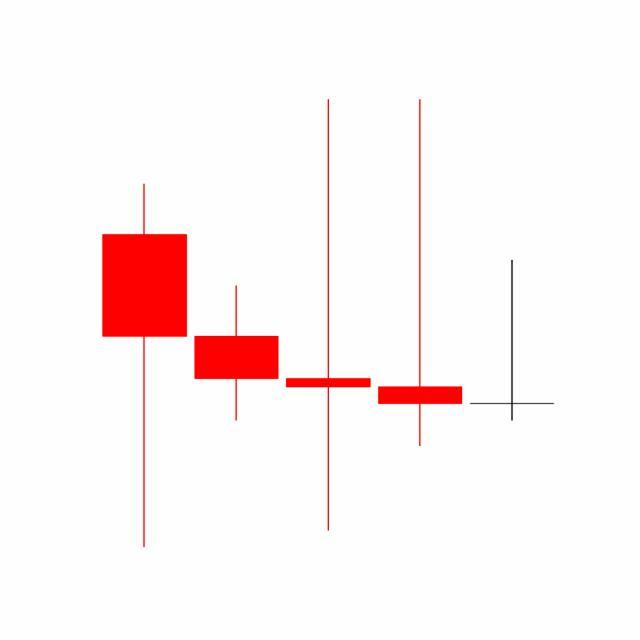Gravestone Doji: (466, 259, 559, 424)
